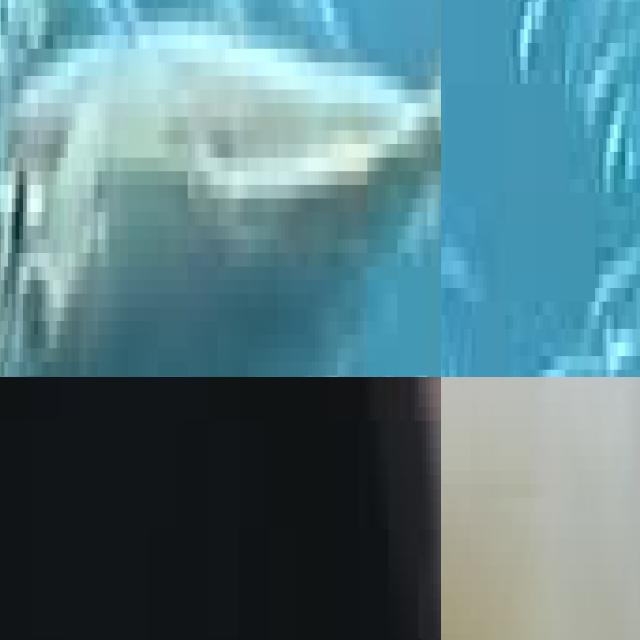fish: (0, 0, 441, 377), (295, 377, 441, 640)
